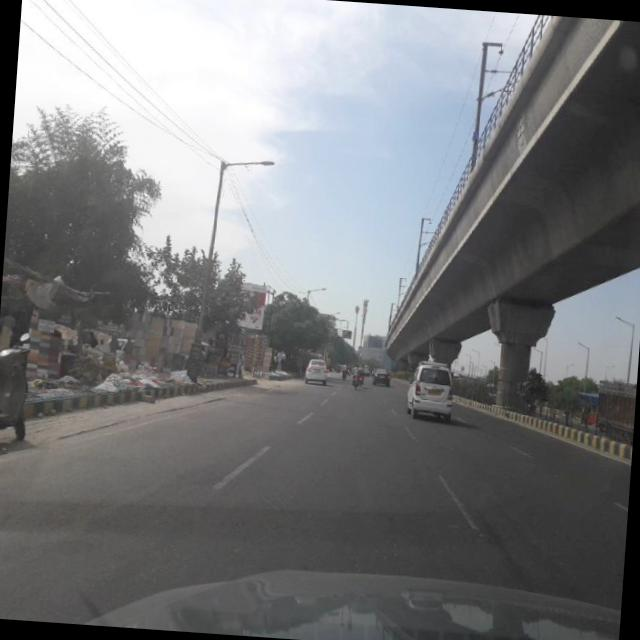crack: (96, 434, 392, 600)
